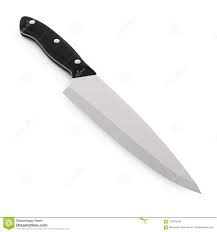knife: (16, 9, 203, 198)
